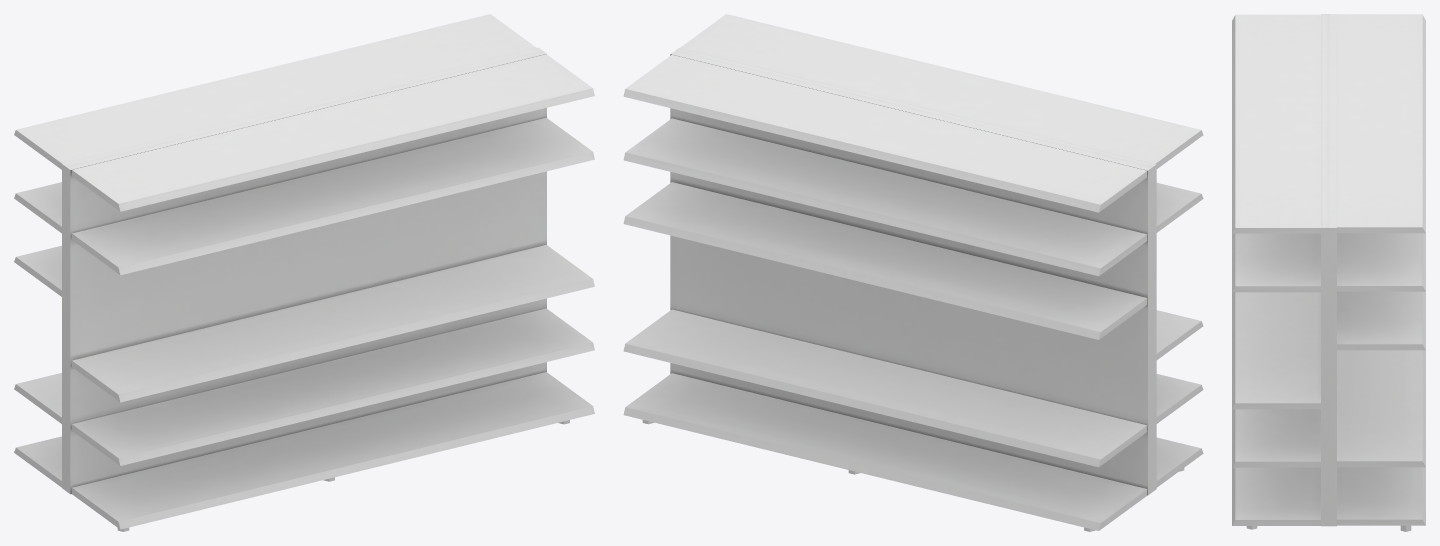
The model's file is GroceriesShelf_002.glb.
3 renders of one model, left to right at view 1: azimuth 30°, elevation 25°; view 2: azimuth 150°, elevation 25°; view 3: azimuth 270°, elevation 25°, orthographic. The views are drawn at different scales.
Parts seen in each view (by area): view 1: GroceriesShelves.002_baked; view 2: GroceriesShelves.002_baked; view 3: GroceriesShelves.002_baked.
Boxes of the visible parts, box(x1,y1,x2,y2) form: GroceriesShelves.002_baked: box(14, 14, 594, 531); GroceriesShelves.002_baked: box(623, 14, 1203, 531); GroceriesShelves.002_baked: box(1232, 14, 1425, 531).
Size of the model in its own units: 3.01 by 2.03 by 1.15.
Materials: 1 (1 with a texture image).
